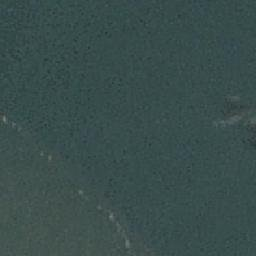debris: (218, 103, 256, 125), (101, 209, 124, 231), (1, 115, 22, 130), (37, 148, 54, 161), (121, 237, 133, 252), (76, 186, 86, 198)
